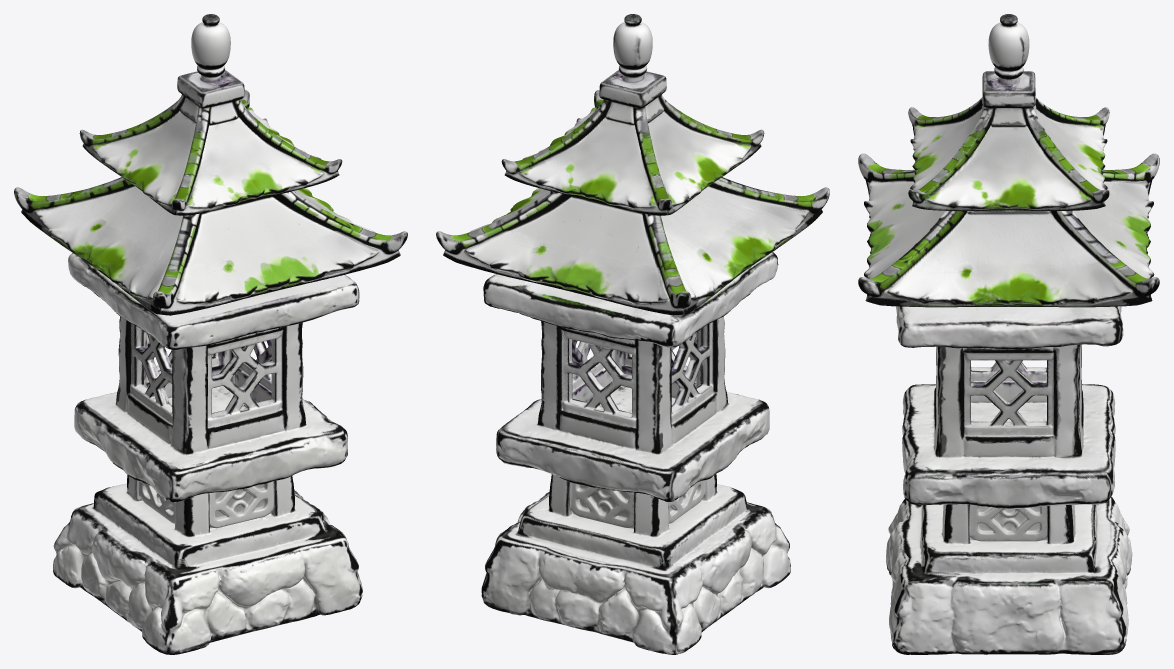
Rendered from lantern.glb.
3 renders of one model, left to right at view 1: azimuth 30°, elevation 25°; view 2: azimuth 150°, elevation 25°; view 3: azimuth 270°, elevation 25°, orthographic. The views are drawn at different scales.
Bounding box in the file's own units: 0.8778 × 1.9 × 0.8782.
1 material, 1 textured.
